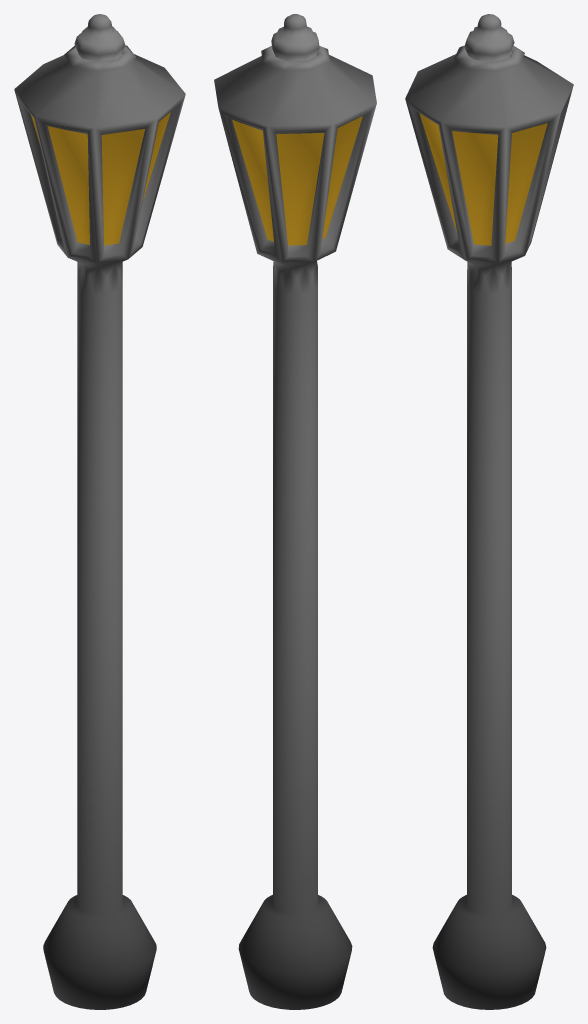
File: Laterne.glb
3 views of the same model, side by side, from view 1: azimuth 30°, elevation 25°; view 2: azimuth 150°, elevation 25°; view 3: azimuth 270°, elevation 25° (orthographic).
Visible parts, largest first — view 1: Laterne; view 2: Laterne; view 3: Laterne.
Part boxes in pixels (x1=…): Laterne: x1=14, y1=14, x2=185, y2=1009; Laterne: x1=214, y1=14, x2=376, y2=1009; Laterne: x1=405, y1=14, x2=573, y2=1009.
Size of the model in its own units: 1.43 by 9.09 by 1.43.
2 materials, 2 textured.
